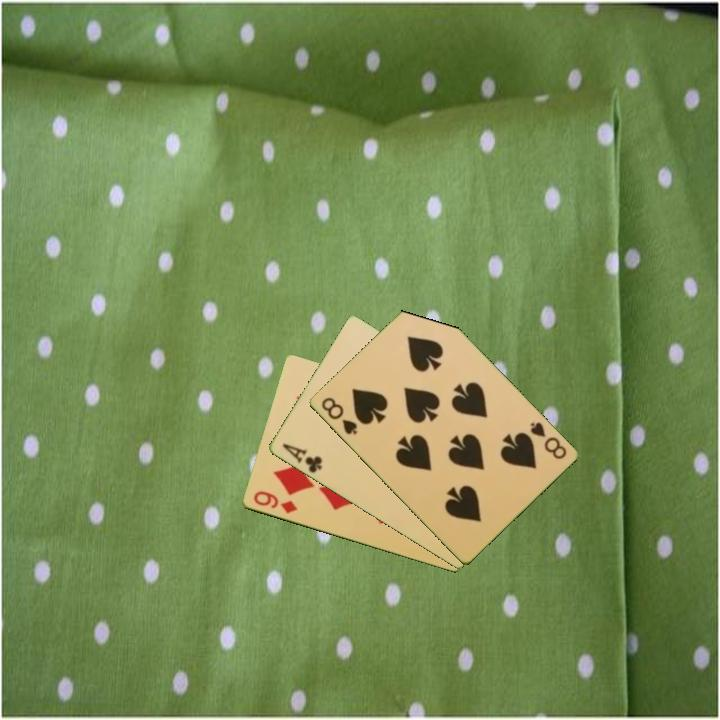8s: (317, 393, 360, 438), (526, 418, 569, 462)
9d: (250, 487, 300, 517)
Ac: (278, 440, 325, 476)
